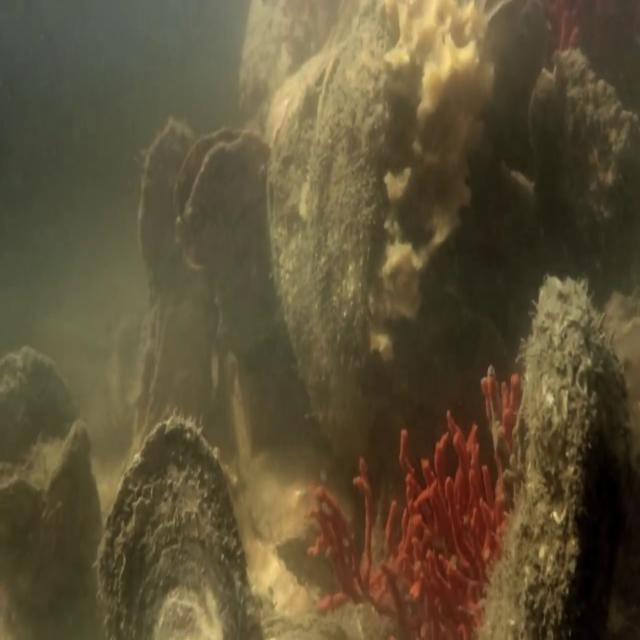Oyster-Indeterminate: (481, 264, 636, 634), (264, 45, 366, 488), (304, 11, 400, 443), (89, 402, 264, 633), (518, 44, 633, 288), (139, 118, 225, 397), (21, 420, 105, 639), (0, 341, 78, 492)
Oyster-Open: (166, 110, 275, 283)
